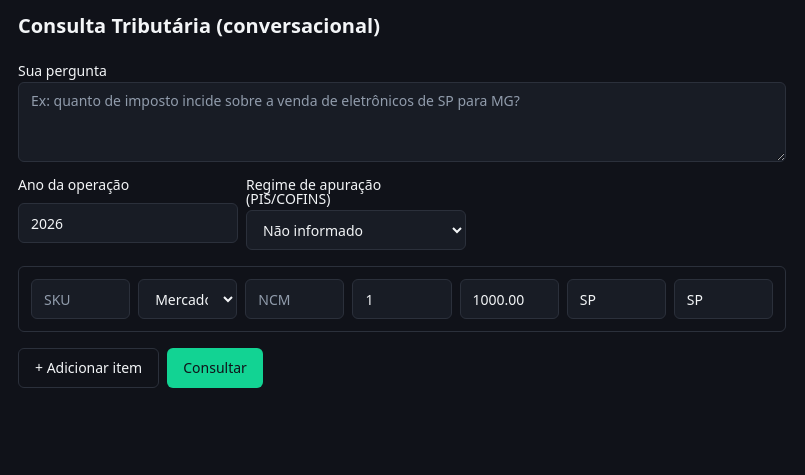
ConsultaPage › AT-002: erro 401 é exibido com mensagem clara
Type "teste" into the text box labelled "Sua pergunta" at x=402, y=122, box [18,82,786,162]
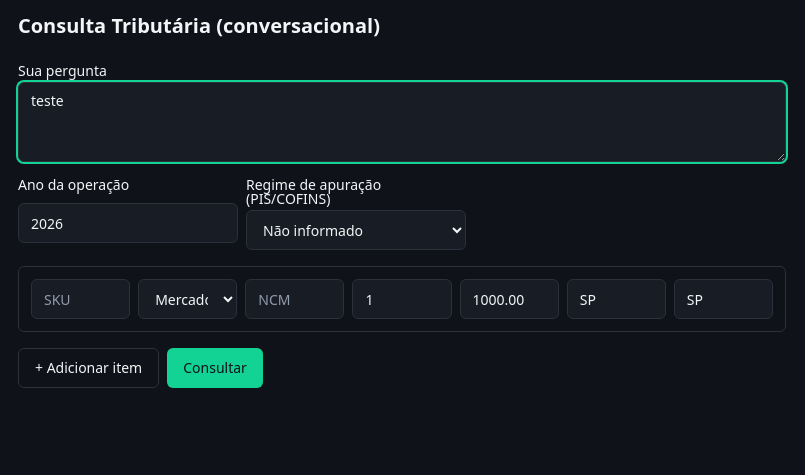
Click the button "Consultar" at x=215, y=368, box [167,348,263,388]
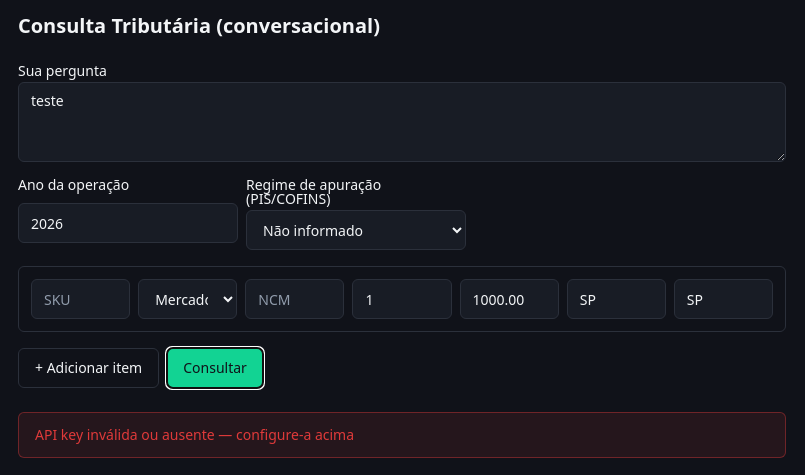
Now the message shows "configure-a acima", box [35,425,354,444]
